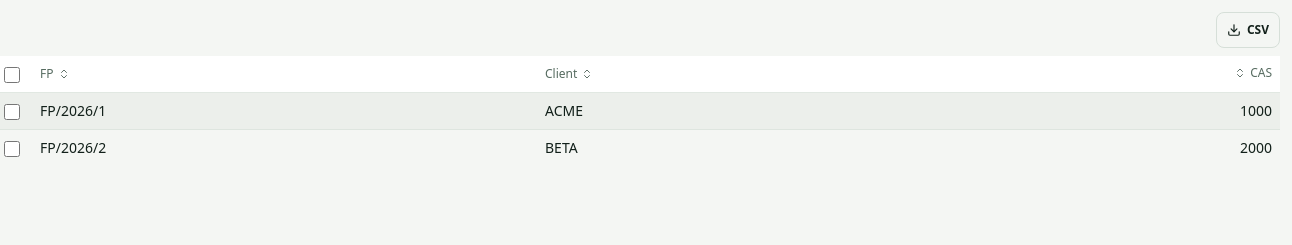
Scenario: Table / ListView — sélection multiple + actions en masse › Table : « tout sélectionner » coche toutes les lignes filtrées
Click the checkbox named "Tout sélectionner": (12, 75) [4,67,20,83]
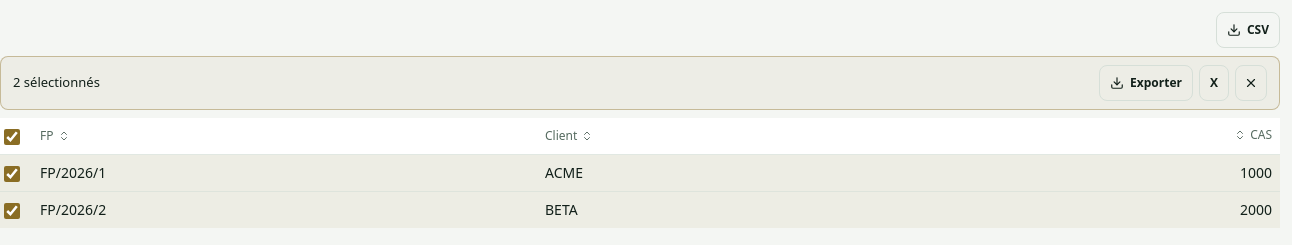
Now the text "2 sélectionnés" is shown, box [13,73,100,93]
